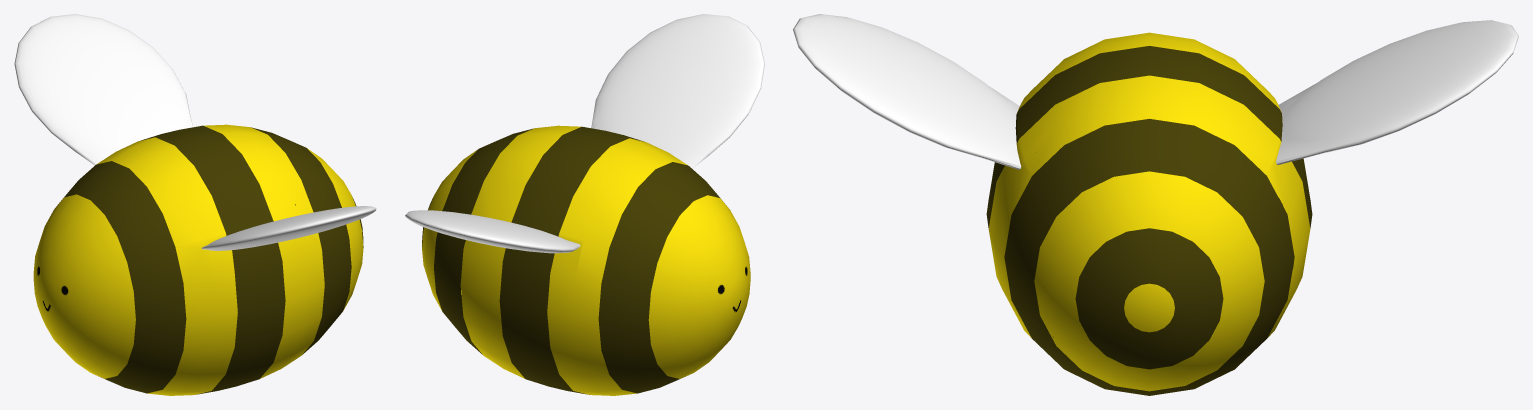
The model's file is NPC_Bee.fbx.
3 views of the same model, side by side, from view 1: azimuth 30°, elevation 25°; view 2: azimuth 150°, elevation 25°; view 3: azimuth 270°, elevation 25° (orthographic). The views are drawn at different scales.
Visible parts, largest first — view 1: Bee; view 2: Bee; view 3: Bee.
Boxes of the visible parts, <box> form: Bee: <box>14,14,376,395</box>; Bee: <box>405,14,764,395</box>; Bee: <box>793,14,1518,395</box>.
Size of the model in its own units: 0.1954 by 0.1632 by 0.3159.
1 material, 1 textured.
